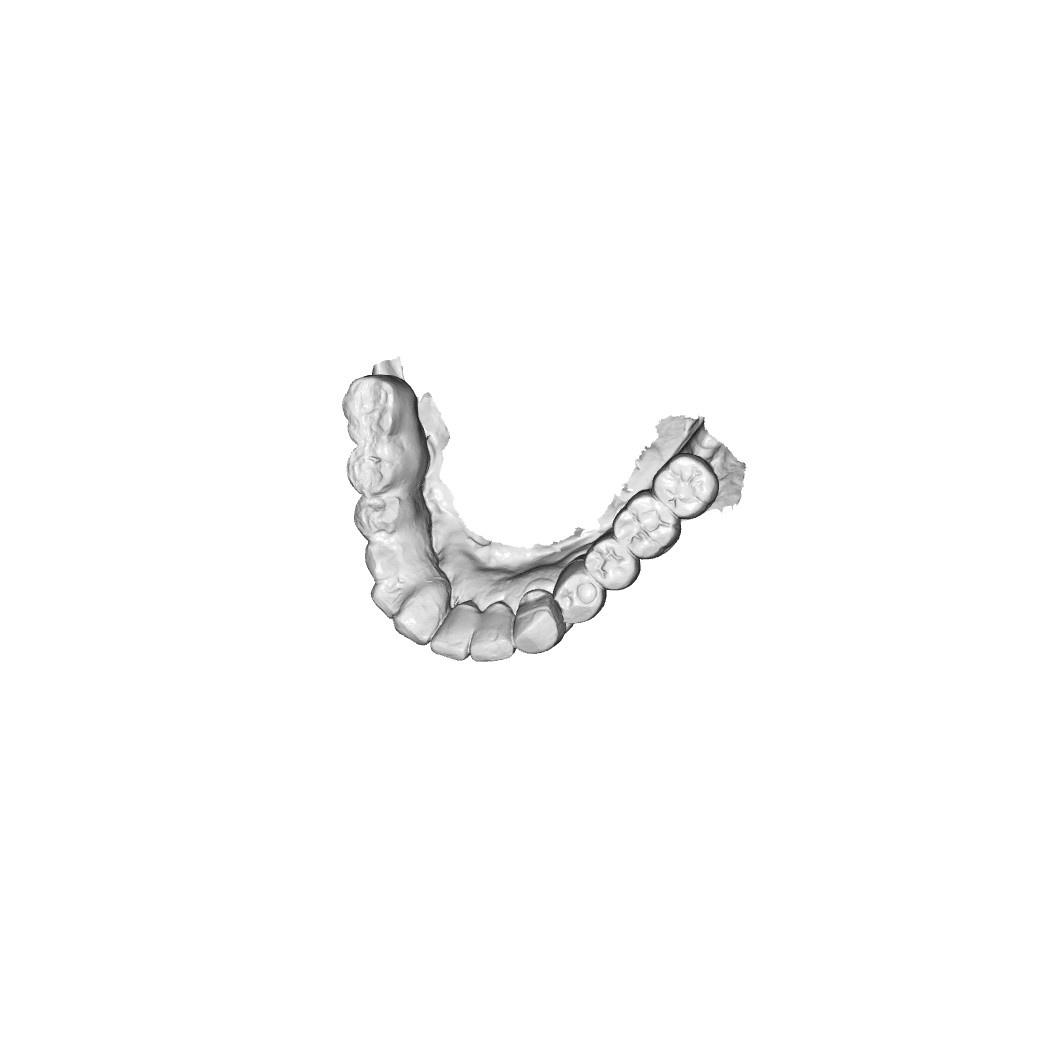canine: (365, 529, 430, 584), (514, 592, 563, 656)
incisor: (392, 586, 447, 647), (469, 605, 520, 665), (367, 573, 427, 620), (428, 605, 475, 662)
molar: (338, 373, 402, 445), (656, 456, 722, 521), (614, 493, 679, 557)
premolar: (345, 438, 406, 500), (585, 537, 643, 592), (554, 566, 606, 625), (352, 491, 411, 540)
